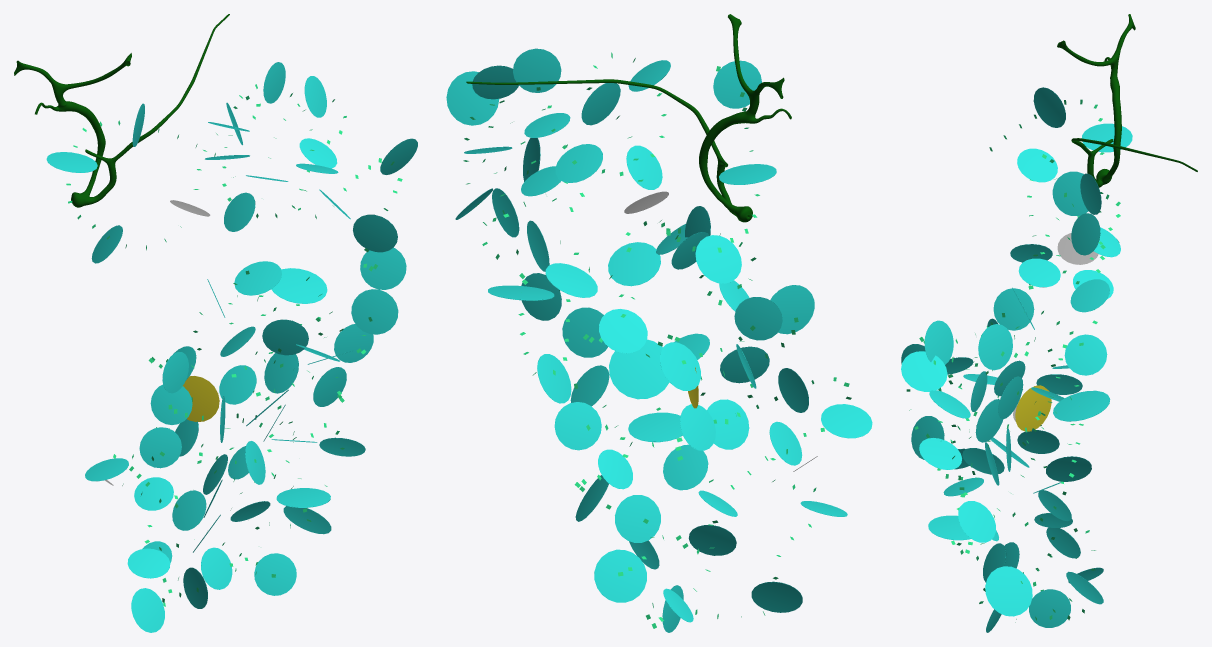
Rendered from VH_M_Small_Intestine_Landmarks.fbx.
3 renders of one model, left to right at view 1: azimuth 30°, elevation 25°; view 2: azimuth 150°, elevation 25°; view 3: azimuth 270°, elevation 25°, orthographic. The views are drawn at different scales.
Parts seen in each view (by area): view 1: VH_M_small_intestine_landmark_biliary_tree, VH_M_small_intestine_landmark_cm_markers, VH_M_small_intestine_disc_at_090_cm, VH_M_small_intestine_disc_at_085_cm, VH_M_small_intestine_disc_at_100_cm, VH_M_small_intestine_disc_at_225_cm, VH_M_small_intestine_disc_at_245_cm, VH_M_small_intestine_disc_at_080_cm, VH_M_small_intestine_disc_at_140_cm, VH_M_small_intestine_disc_at_110_cm, VH_M_small_intestine_disc_at_160_cm, VH_M_small_intestine_disc_at_265_cm (+24 smaller); view 2: VH_M_small_intestine_landmark_biliary_tree, VH_M_small_intestine_landmark_cm_markers, VH_M_small_intestine_disc_at_185_cm, VH_M_small_intestine_disc_at_220_cm, VH_M_small_intestine_disc_at_125_cm, VH_M_small_intestine_disc_at_200_cm, VH_M_small_intestine_disc_at_075_cm, VH_M_small_intestine_disc_at_215_cm, VH_M_small_intestine_disc_at_015_cm, VH_M_small_intestine_disc_at_115_cm, VH_M_small_intestine_disc_at_120_cm, VH_M_small_intestine_disc_at_150_cm (+33 smaller); view 3: VH_M_small_intestine_landmark_biliary_tree, VH_M_small_intestine_disc_at_210_cm, VH_M_small_intestine_landmark_cm_markers, VH_M_small_intestine_disc_at_130_cm, VH_M_small_intestine_disc_at_070_cm, VH_M_small_intestine_disc_at_145_cm, VH_M_small_intestine_disc_at_100_cm, VH_M_small_intestine_disc_at_270_cm, VH_M_small_intestine_disc_at_080_cm, VH_M_small_intestine_disc_at_195_cm, VH_M_small_intestine_landmark_jejunoileal_junction, VH_M_small_intestine_disc_at_025_cm (+29 smaller).
Part boxes in pixels (box(x1,y1,x2,y2)): VH_M_small_intestine_landmark_biliary_tree: box(14, 14, 229, 207); VH_M_small_intestine_landmark_cm_markers: box(66, 84, 402, 606); VH_M_small_intestine_disc_at_090_cm: box(351, 289, 398, 334); VH_M_small_intestine_disc_at_085_cm: box(360, 247, 406, 289); VH_M_small_intestine_disc_at_100_cm: box(271, 268, 327, 303); VH_M_small_intestine_disc_at_225_cm: box(254, 553, 296, 595); VH_M_small_intestine_disc_at_245_cm: box(139, 427, 181, 468); VH_M_small_intestine_disc_at_080_cm: box(353, 214, 397, 252); VH_M_small_intestine_disc_at_140_cm: box(262, 319, 308, 355); VH_M_small_intestine_disc_at_110_cm: box(234, 261, 281, 295); VH_M_small_intestine_disc_at_160_cm: box(150, 384, 192, 424); VH_M_small_intestine_disc_at_265_cm: box(131, 588, 164, 632); VH_M_small_intestine_landmark_biliary_tree: box(466, 14, 791, 222); VH_M_small_intestine_landmark_cm_markers: box(463, 52, 851, 628); VH_M_small_intestine_disc_at_185_cm: box(609, 339, 669, 399); VH_M_small_intestine_disc_at_220_cm: box(594, 549, 646, 602); VH_M_small_intestine_disc_at_125_cm: box(608, 242, 660, 286); VH_M_small_intestine_disc_at_200_cm: box(554, 402, 601, 450); VH_M_small_intestine_disc_at_075_cm: box(446, 71, 499, 125); VH_M_small_intestine_disc_at_215_cm: box(615, 495, 660, 542); VH_M_small_intestine_disc_at_015_cm: box(695, 235, 741, 283); VH_M_small_intestine_disc_at_115_cm: box(599, 309, 647, 353); VH_M_small_intestine_disc_at_120_cm: box(562, 307, 608, 357); VH_M_small_intestine_disc_at_150_cm: box(734, 297, 782, 340); VH_M_small_intestine_landmark_biliary_tree: box(1057, 14, 1197, 187); VH_M_small_intestine_disc_at_210_cm: box(985, 566, 1032, 616); VH_M_small_intestine_landmark_cm_markers: box(906, 99, 1120, 622); VH_M_small_intestine_disc_at_130_cm: box(901, 351, 947, 391); VH_M_small_intestine_disc_at_070_cm: box(1064, 334, 1107, 375); VH_M_small_intestine_disc_at_145_cm: box(993, 288, 1034, 330); VH_M_small_intestine_disc_at_100_cm: box(1053, 390, 1110, 421); VH_M_small_intestine_disc_at_270_cm: box(1029, 589, 1070, 627); VH_M_small_intestine_disc_at_080_cm: box(978, 324, 1012, 370); VH_M_small_intestine_disc_at_195_cm: box(958, 501, 995, 542); VH_M_small_intestine_landmark_jejunoileal_junction: box(1015, 385, 1051, 431); VH_M_small_intestine_disc_at_025_cm: box(1052, 171, 1088, 216).
Bounding box in the file's own units: 18.88 × 29 × 13.94.
